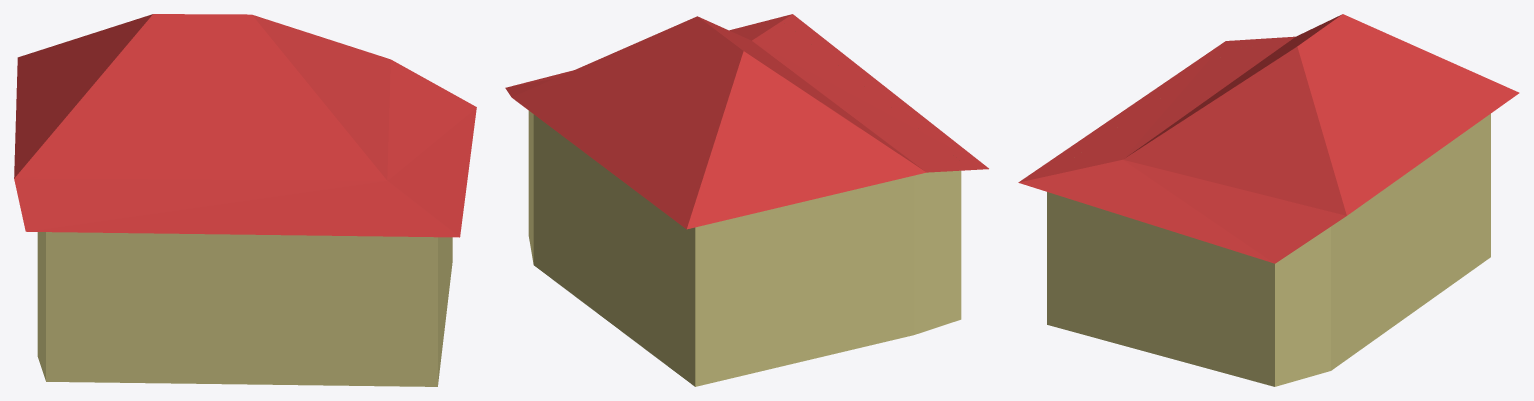
3 views of the same model, side by side, from view 1: azimuth 30°, elevation 25°; view 2: azimuth 150°, elevation 25°; view 3: azimuth 270°, elevation 25° (orthographic). The views are drawn at different scales.
Parts seen in each view (by area): view 1: group_3, group_5, group_4; view 2: group_5, group_3, group_4; view 3: group_5, group_3, group_4.
Part boxes in pixels (x1,y1,x2,y2): group_3: [14, 14, 476, 237]; group_5: [37, 232, 452, 386]; group_4: [14, 50, 476, 237]; group_5: [528, 111, 961, 386]; group_3: [505, 14, 960, 229]; group_4: [508, 14, 988, 228]; group_5: [1047, 113, 1490, 386]; group_3: [1019, 14, 1519, 263]; group_4: [1018, 35, 1298, 263].
Size of the model in its own units: 17.72 by 17.74 by 10.02.
